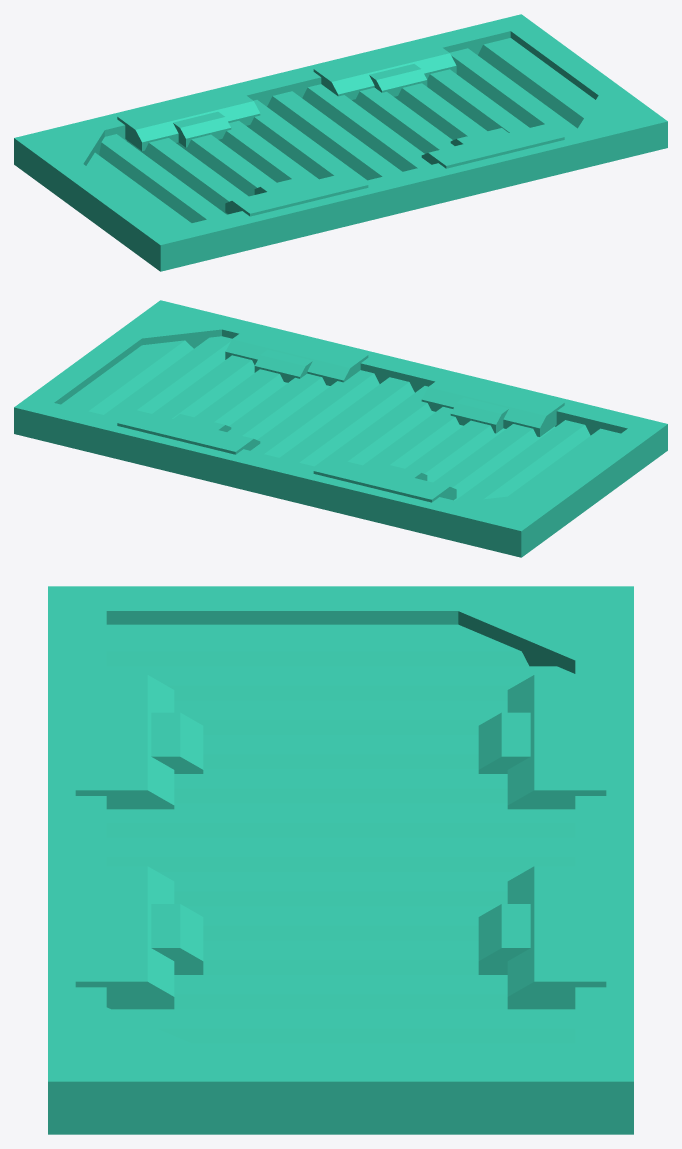
File: Floor_A_2x1m.FBX
The picture shows the model from 3 angles, top to bottom: view 1: azimuth 30°, elevation 25°; view 2: azimuth 150°, elevation 25°; view 3: azimuth 270°, elevation 25°; orthographic projection. The views are drawn at different scales.
Parts seen in each view (by area): view 1: Floor_A_2x1m; view 2: Floor_A_2x1m; view 3: Floor_A_2x1m.
Boxes of the visible parts, bbox=[...] form: Floor_A_2x1m: bbox=[14, 14, 667, 271]; Floor_A_2x1m: bbox=[14, 300, 667, 557]; Floor_A_2x1m: bbox=[48, 586, 633, 1134].
Bounding box in the file's own units: 200 × 11.06 × 100.
